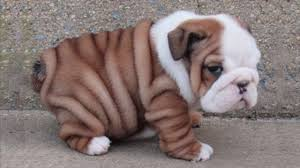Bulldog: (26, 15, 272, 160)
